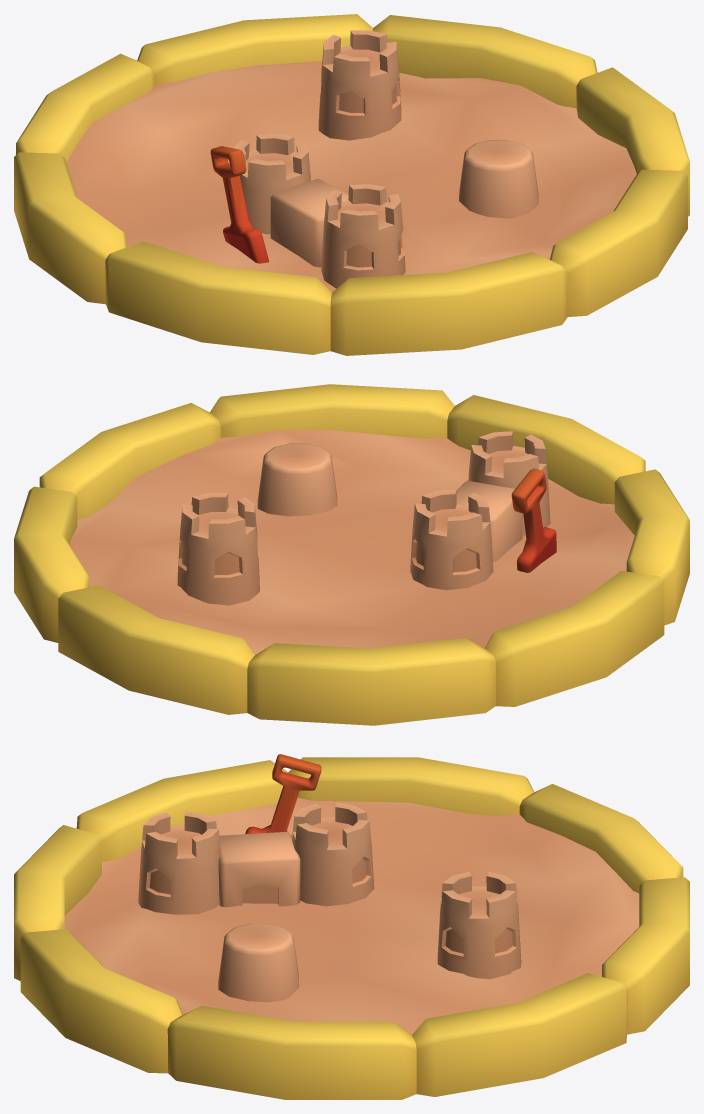
Rendered from sandbox_round_decorated.glb.
The picture shows the model from 3 angles, top to bottom: view 1: azimuth 30°, elevation 25°; view 2: azimuth 150°, elevation 25°; view 3: azimuth 270°, elevation 25°; orthographic projection.
Parts seen in each view (by area): view 1: sandbox_round_decorated; view 2: sandbox_round_decorated; view 3: sandbox_round_decorated.
Boxes of the visible parts, x1,y1,x2,y2 form: sandbox_round_decorated: (14,14,689,355); sandbox_round_decorated: (14,384,689,725); sandbox_round_decorated: (14,754,689,1099).
Size of the model in its own units: 4 by 0.9138 by 4.
Materials: 1 (1 with a texture image).
